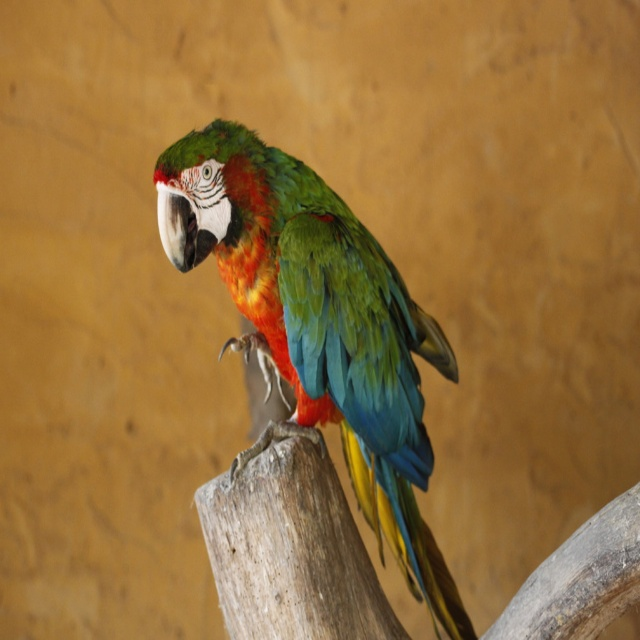Parrot: (150, 117, 482, 639)
